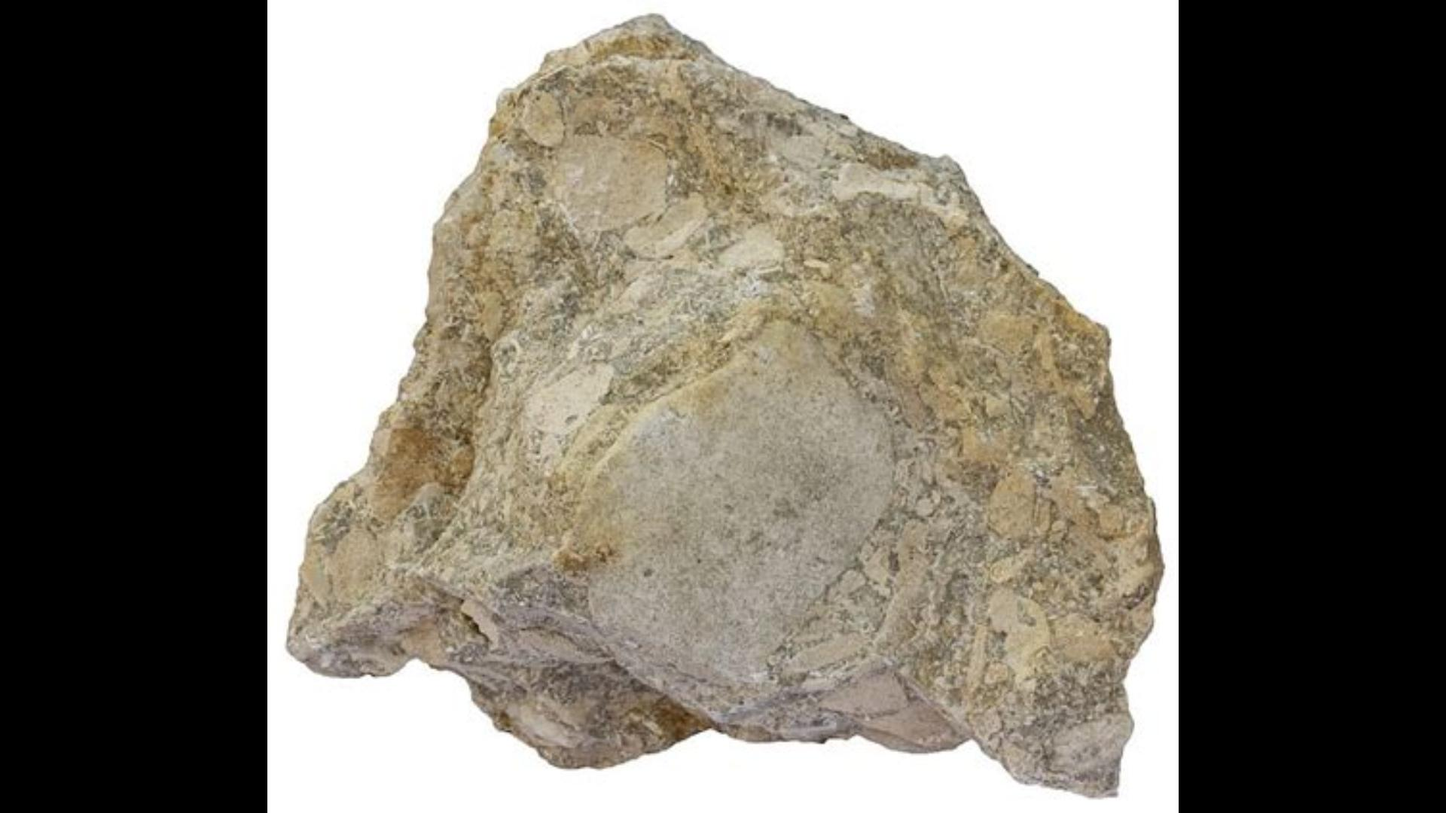rock: (296, 17, 1160, 788)
